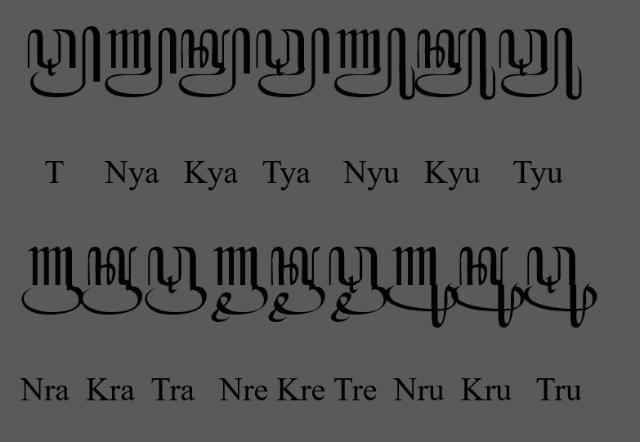Kr: (81, 245, 143, 315)
Kre: (268, 246, 326, 323)
Kru: (452, 246, 524, 328)
Ky: (178, 27, 252, 99)
Kyu: (414, 27, 496, 101)
Nr: (22, 246, 82, 315)
Nre: (210, 246, 268, 323)
Nru: (386, 246, 458, 328)
Ny: (106, 24, 180, 96)
Nyu: (334, 28, 416, 101)
Tr: (144, 246, 208, 316)
Tre: (328, 246, 388, 323)
Tru: (524, 246, 598, 328)
Ty: (255, 27, 331, 99)
Tyu: (499, 28, 583, 101)
_T: (27, 26, 102, 98)
